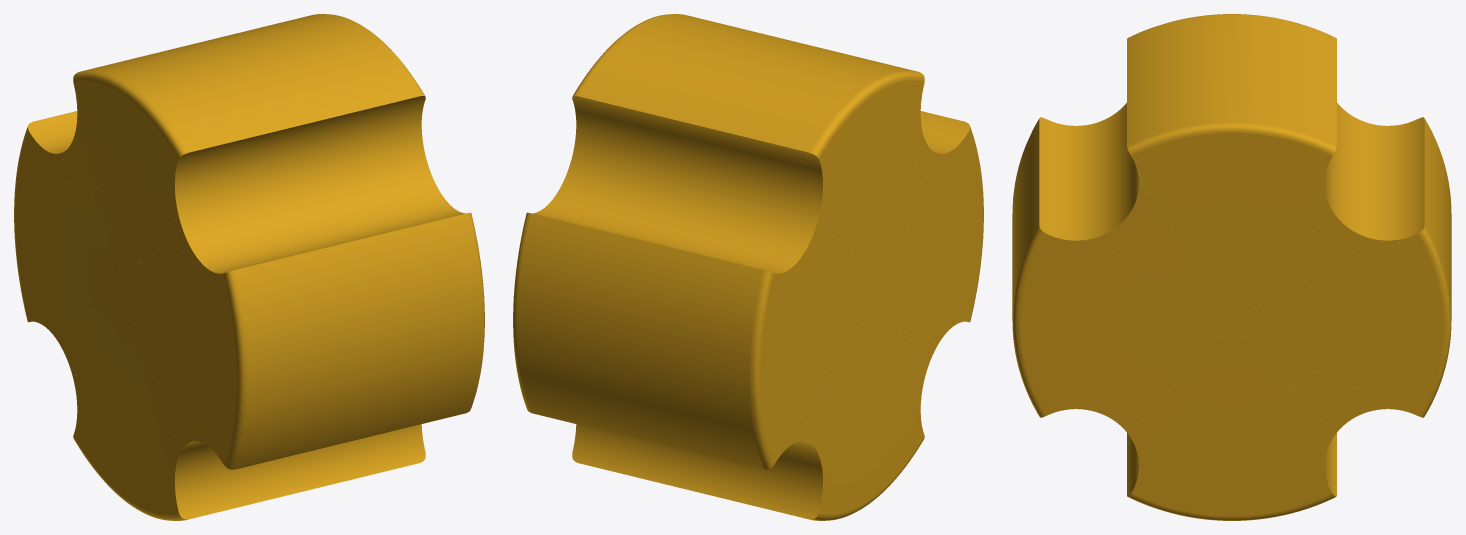
File: takoz-furukawa-f22-top-buffer-02.glb
The picture shows the model from 3 angles, left to right: view 1: azimuth 30°, elevation 25°; view 2: azimuth 150°, elevation 25°; view 3: azimuth 270°, elevation 25°; orthographic projection. The views are drawn at different scales.
Visible parts, largest first — view 1: body; view 2: body; view 3: body.
Part boxes in pixels (left/top/right/bottom): body: left=14, top=14, right=484, bottom=520; body: left=513, top=14, right=983, bottom=520; body: left=1012, top=14, right=1451, bottom=520.
Size of the model in its own units: 0.162 by 0.262 by 0.262.
